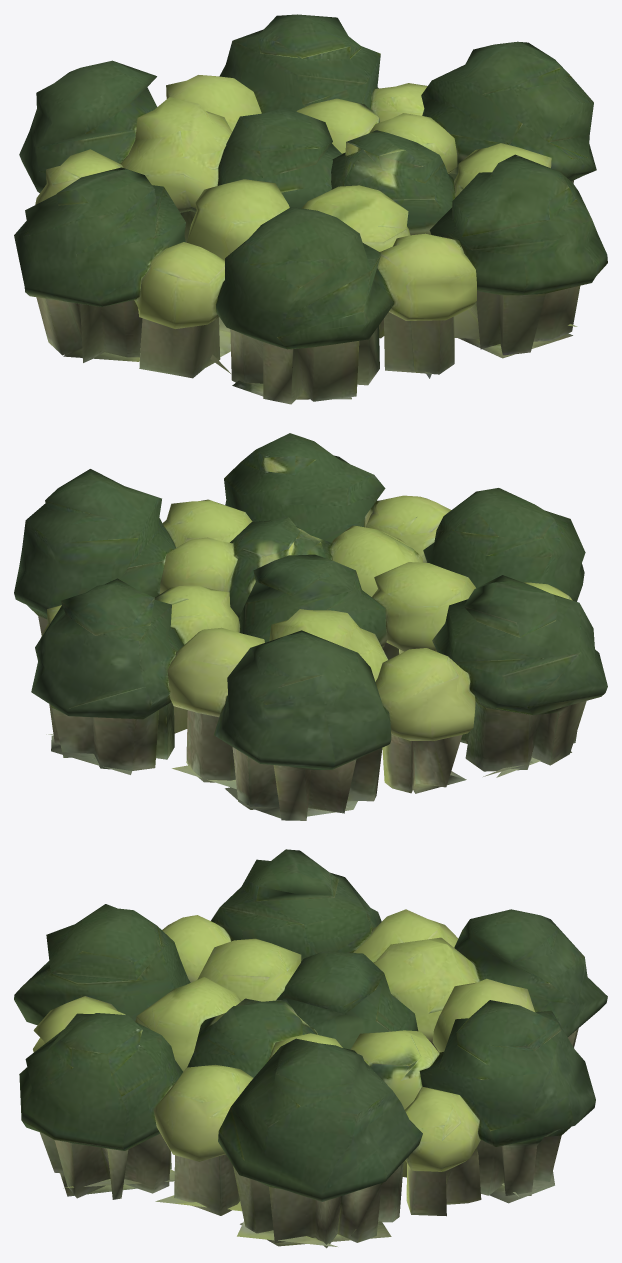
The model's file is bosco.glb.
3 views of the same model, one above another, from view 1: azimuth 30°, elevation 25°; view 2: azimuth 150°, elevation 25°; view 3: azimuth 270°, elevation 25° (orthographic). The views are drawn at different scales.
Bounding box in the file's own units: 0.9575 × 0.2861 × 0.8516.
Materials: 1 (1 with a texture image).
